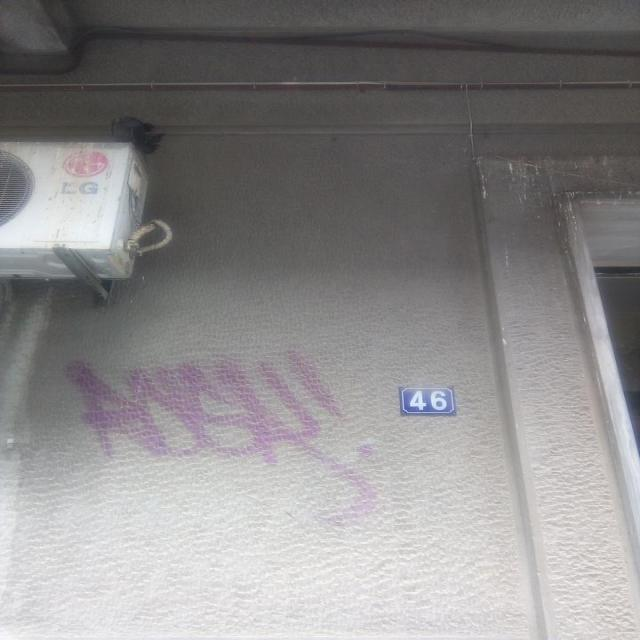nonspitting: (68, 348, 382, 524)
